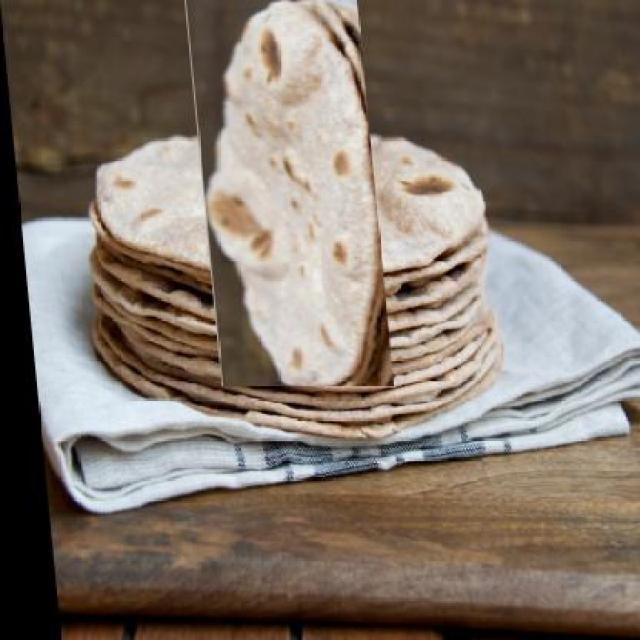chapati: (134, 52, 438, 334)
